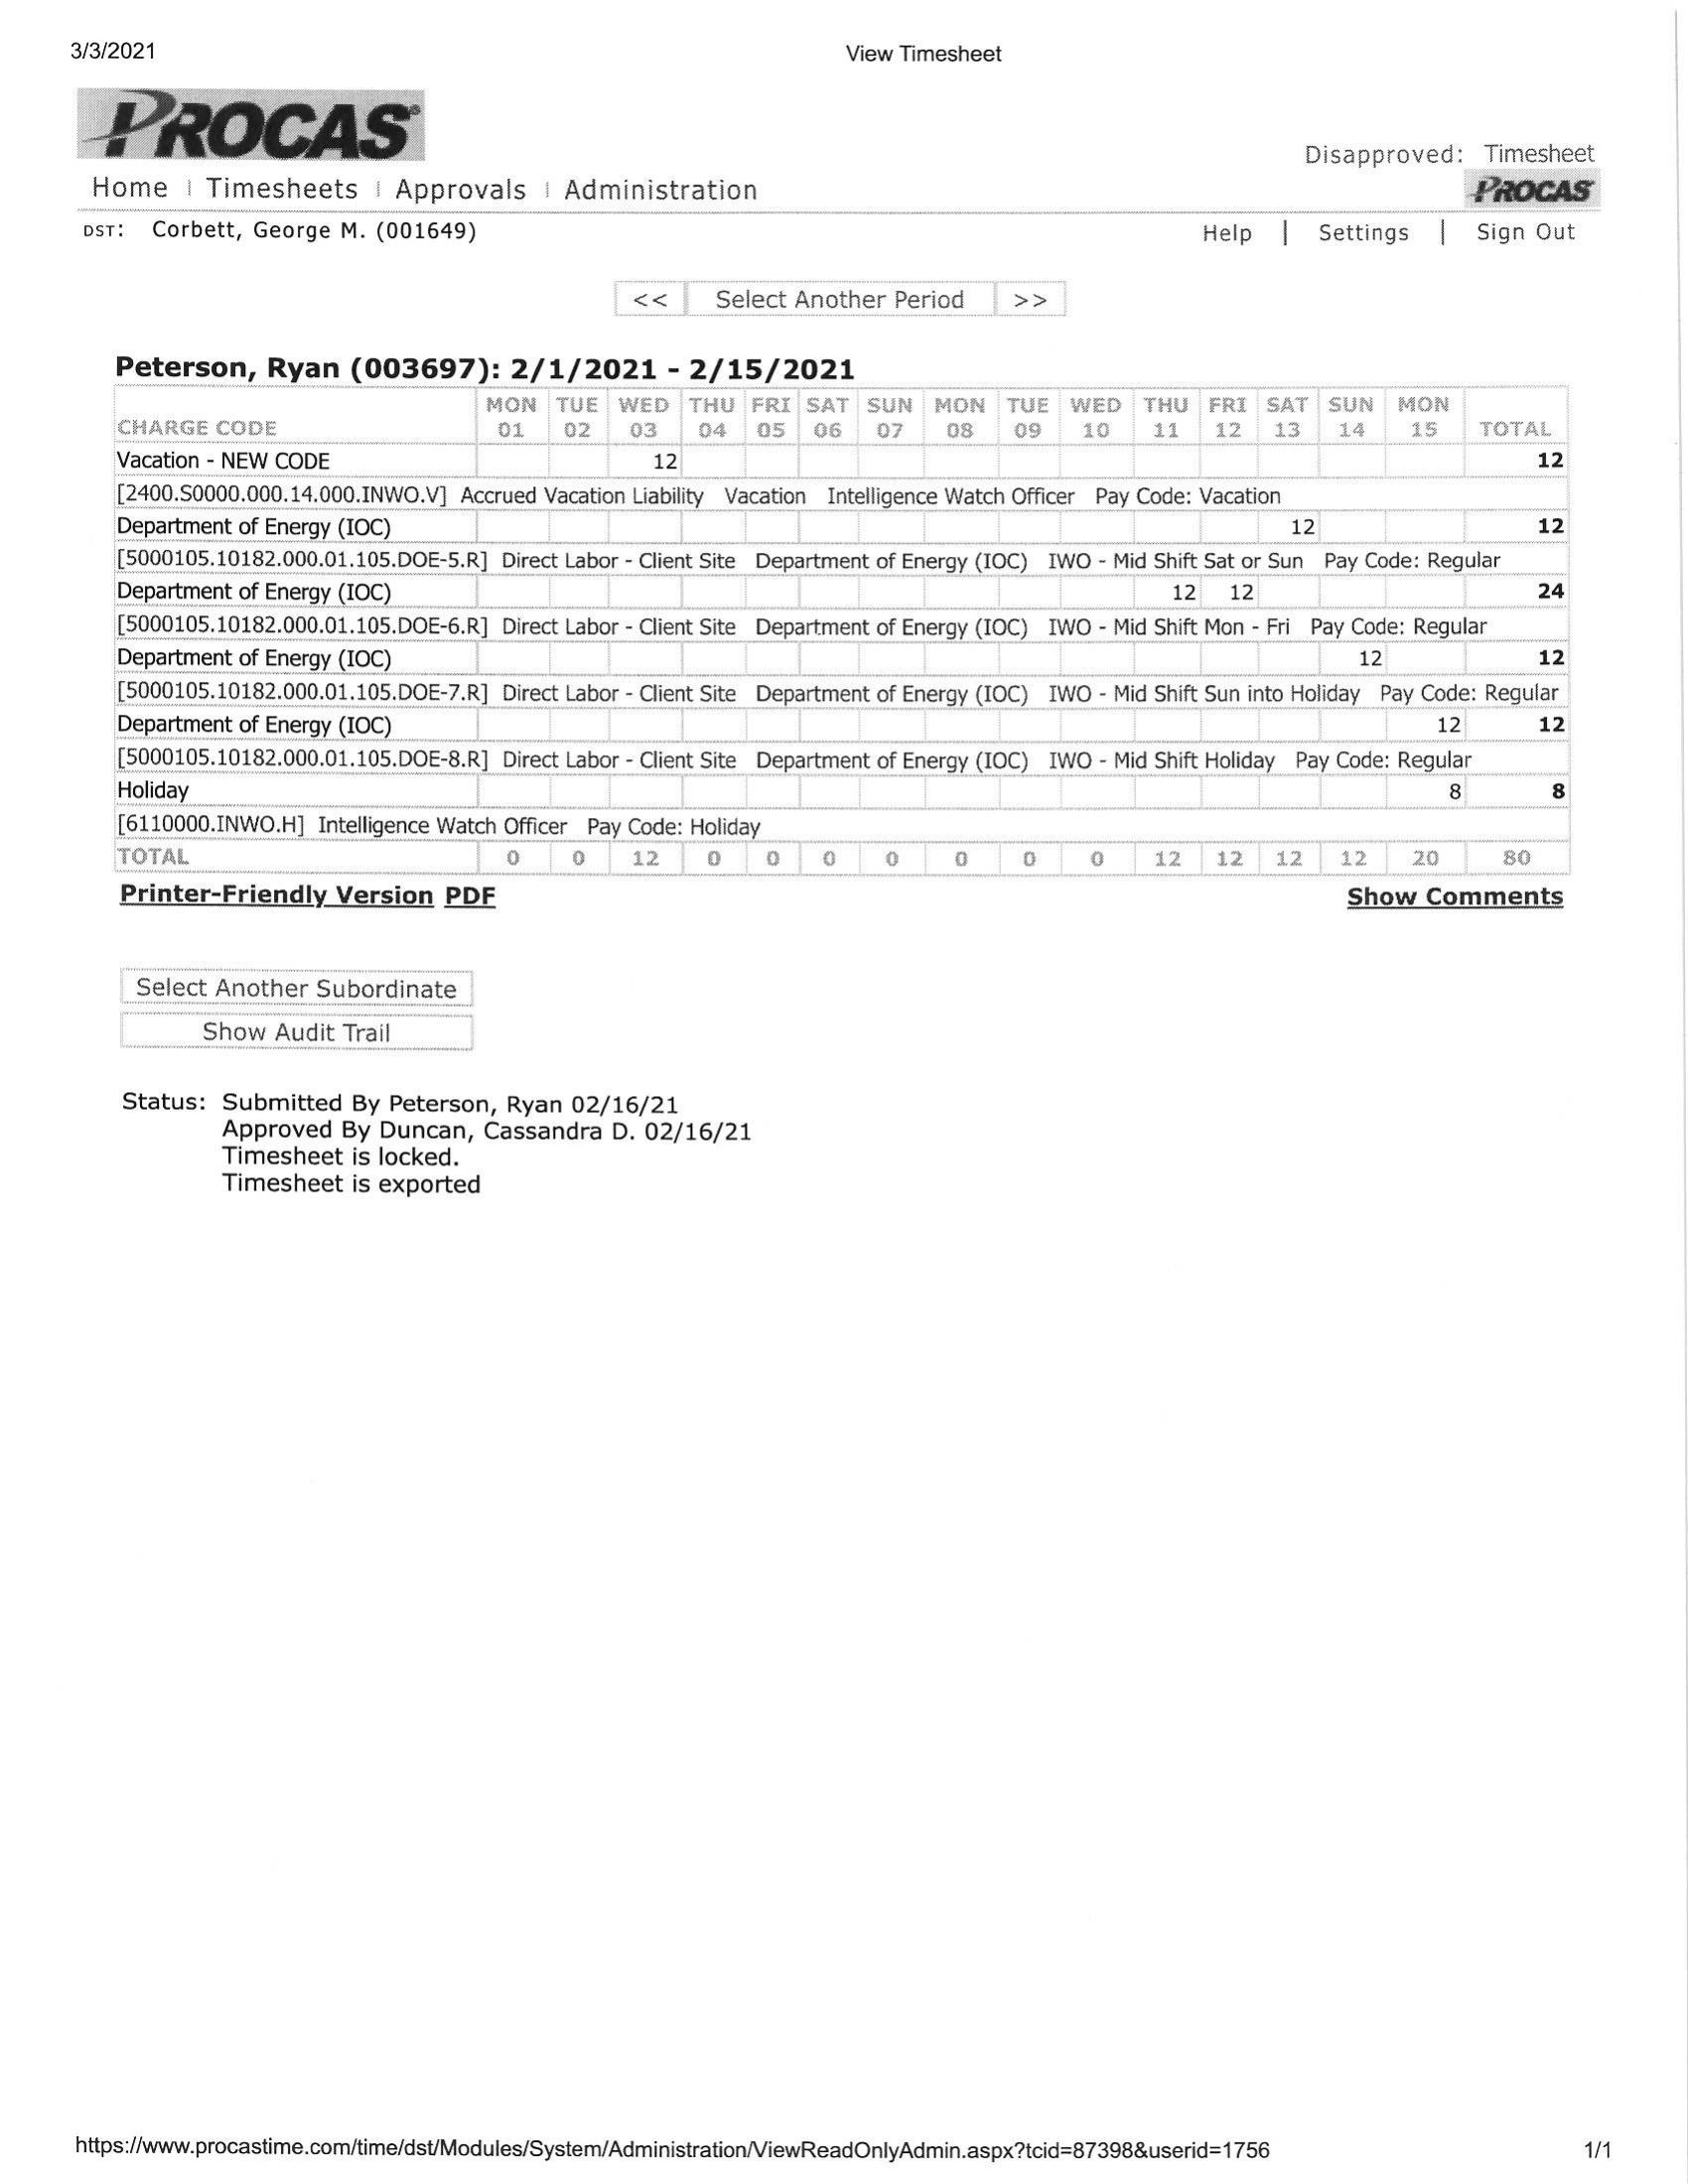table: (108, 378, 1578, 876)
